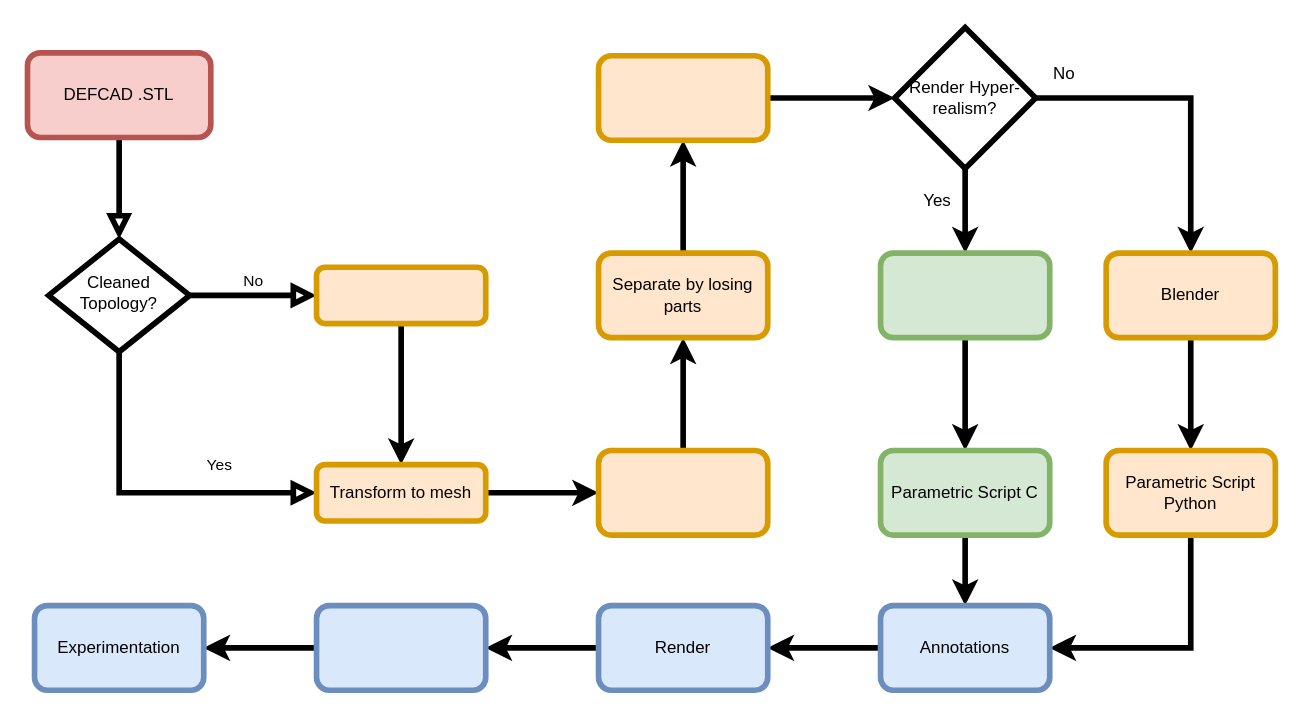
Some shapes in this 1301 by 716 pixel diagram are drawn without their labels. The box of each missing label's shape, as (x1, y1, x2, y2) in pixels:
Add materials: (595, 447, 770, 537)
Procedural Script Python: (595, 52, 770, 142)
Retopology: (313, 264, 488, 326)
Unreal: (877, 250, 1052, 340)
YoloV8: (313, 602, 488, 692)
